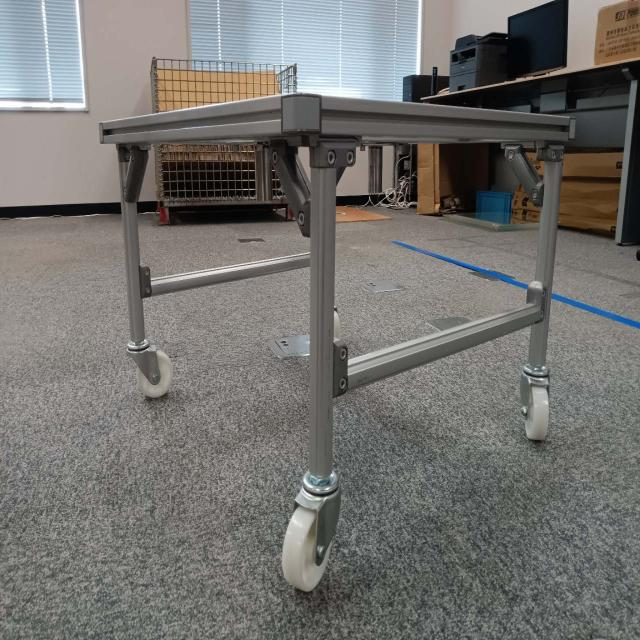door: (114, 92, 323, 232)
side: (316, 91, 565, 386)
